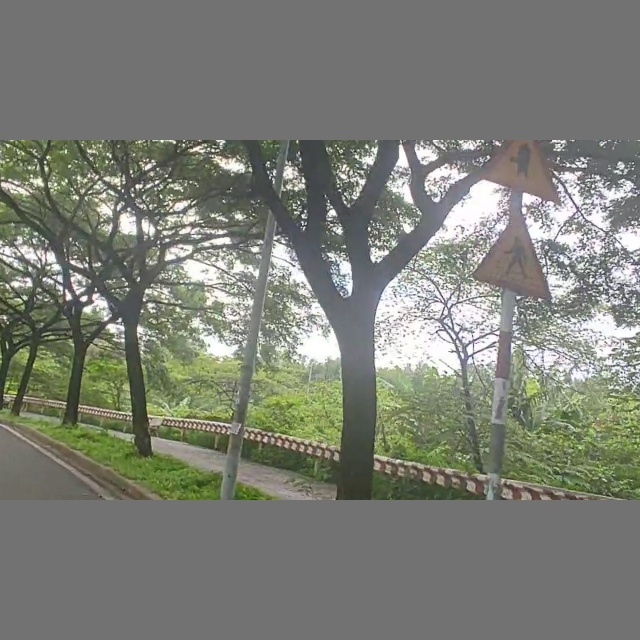W.207: (471, 142, 571, 209)
W.224: (471, 207, 564, 309)
